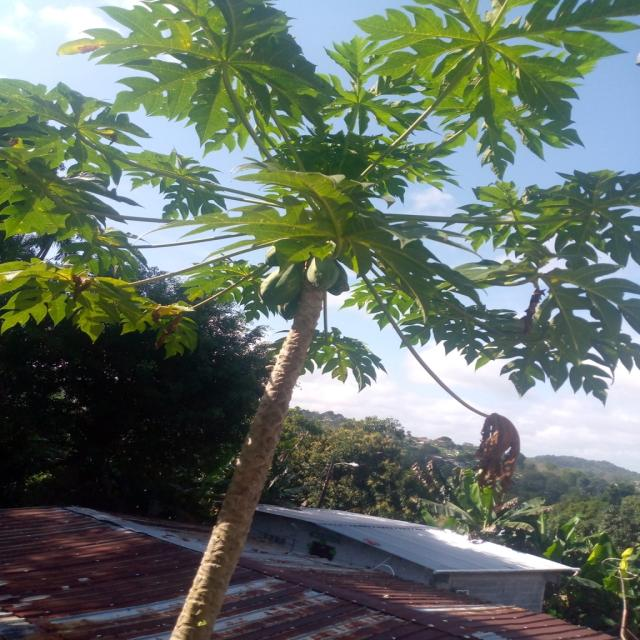Papaya-Tree: (9, 2, 640, 534)
